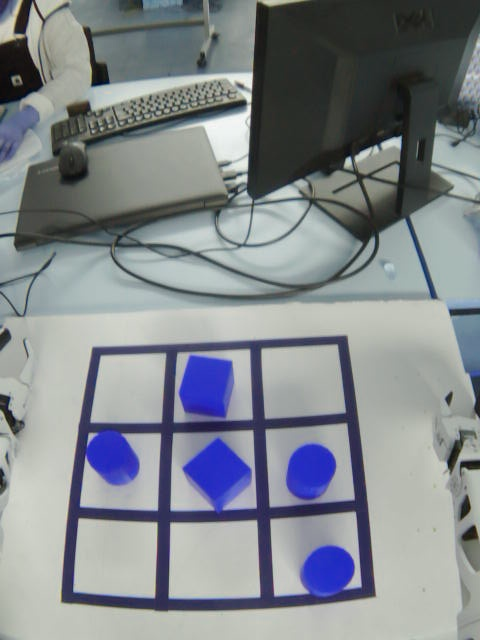cube: (173, 435, 259, 517), (173, 348, 241, 421)
cylinder: (293, 540, 362, 604), (280, 436, 340, 504), (85, 428, 146, 491)
empty: (167, 523, 262, 601), (75, 513, 158, 602), (261, 345, 347, 418), (91, 349, 164, 424)
